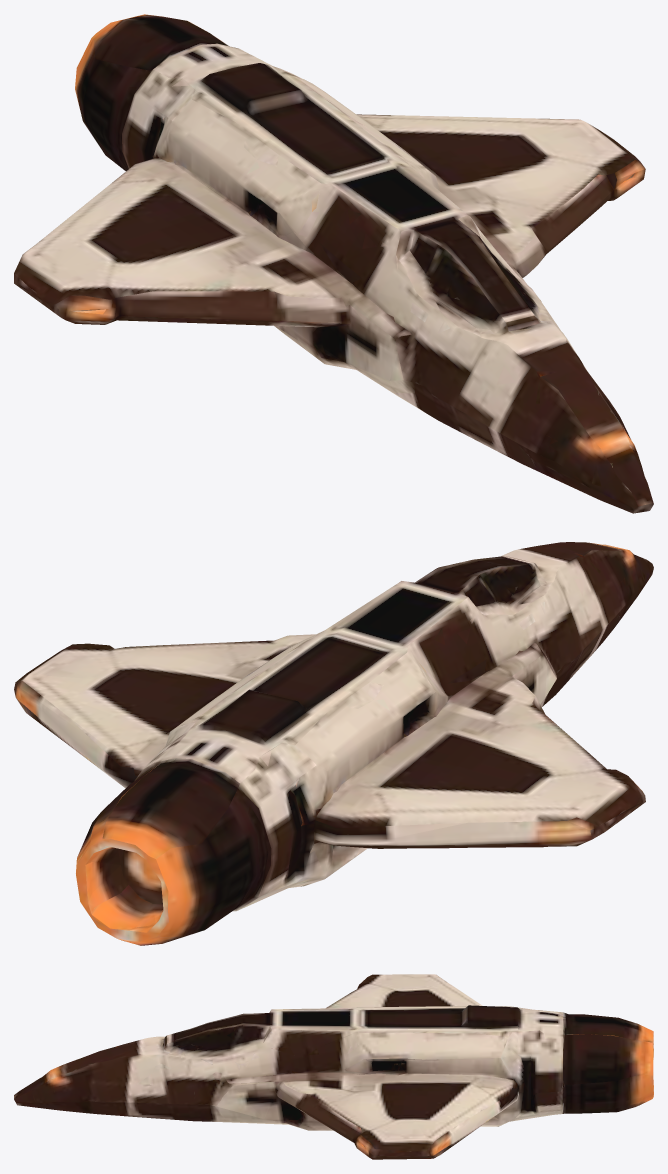
Rendered from enemy-basic-s4.glb.
The picture shows the model from 3 angles, top to bottom: view 1: azimuth 30°, elevation 25°; view 2: azimuth 150°, elevation 25°; view 3: azimuth 270°, elevation 25°; orthographic projection. The views are drawn at different scales.
Parts seen in each view (by area): view 1: 2eeb1933-a6ca-4bd0-a515-30dd85c03f9c_texturing.obj; view 2: 2eeb1933-a6ca-4bd0-a515-30dd85c03f9c_texturing.obj; view 3: 2eeb1933-a6ca-4bd0-a515-30dd85c03f9c_texturing.obj.
Part boxes in pixels (x1,y1,x2,y2): 2eeb1933-a6ca-4bd0-a515-30dd85c03f9c_texturing.obj: (14,14,653,513); 2eeb1933-a6ca-4bd0-a515-30dd85c03f9c_texturing.obj: (14,542,653,945); 2eeb1933-a6ca-4bd0-a515-30dd85c03f9c_texturing.obj: (14,974,653,1159).
Bounding box in the file's own units: 1.3 × 0.3399 × 1.99.
Materials: 1 (1 with a texture image).
